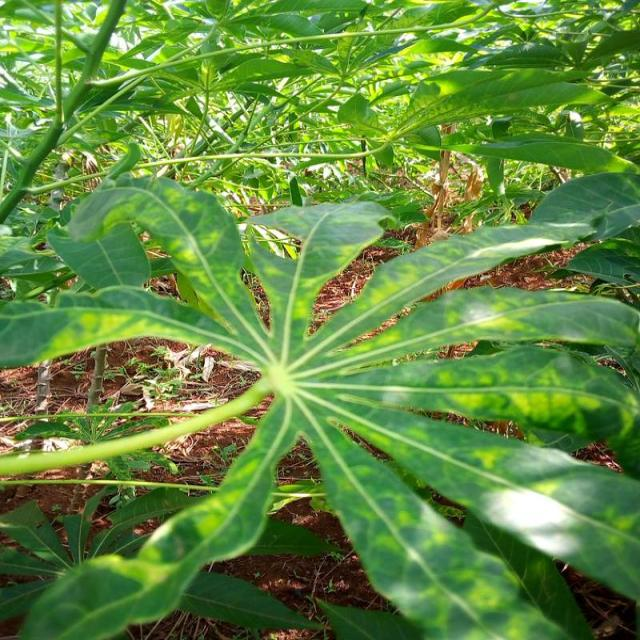Mosaico: (84, 210, 609, 605)
